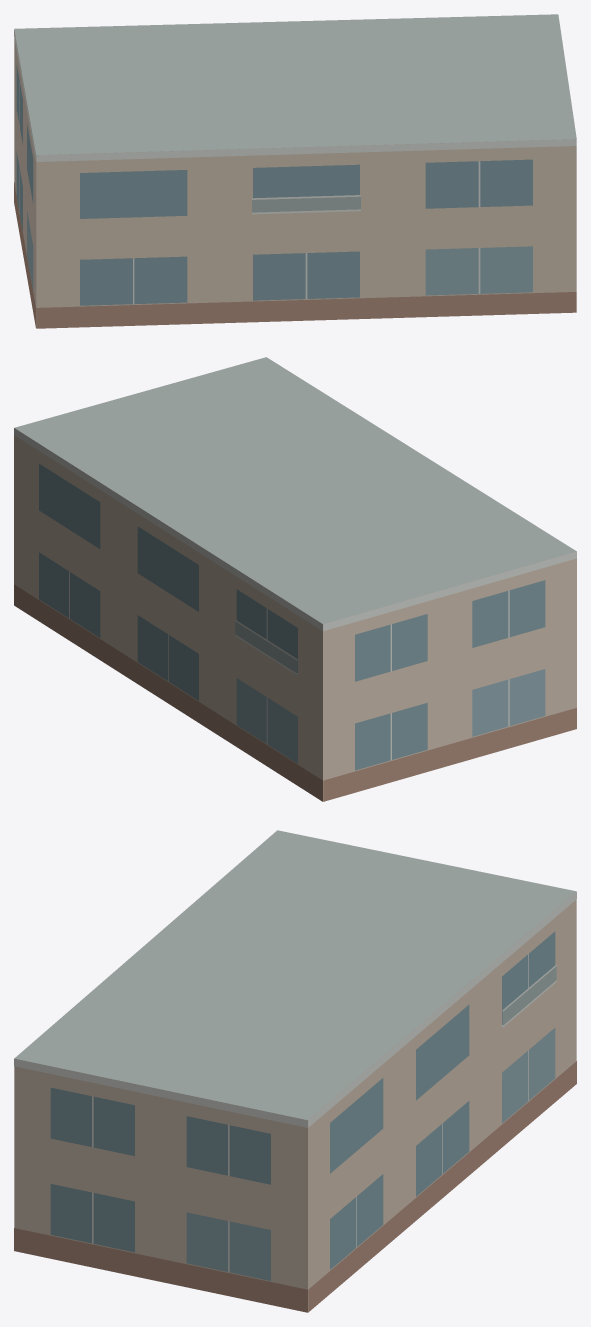
Rendered from survey-upis-32949499.glb.
3 renders of one model, top to bottom at view 1: azimuth 30°, elevation 25°; view 2: azimuth 150°, elevation 25°; view 3: azimuth 270°, elevation 25°, orthographic. The views are drawn at different scales.
Parts seen in each view (by area): view 1: survey-upis-32949499.tmp; view 2: survey-upis-32949499.tmp; view 3: survey-upis-32949499.tmp.
Boxes of the visible parts, left/top/right/bottom form: survey-upis-32949499.tmp: left=14, top=14, right=576, bottom=328; survey-upis-32949499.tmp: left=14, top=357, right=576, bottom=801; survey-upis-32949499.tmp: left=14, top=830, right=576, bottom=1312.
Bounding box in the file's own units: 19.73 × 6.1 × 16.17.
